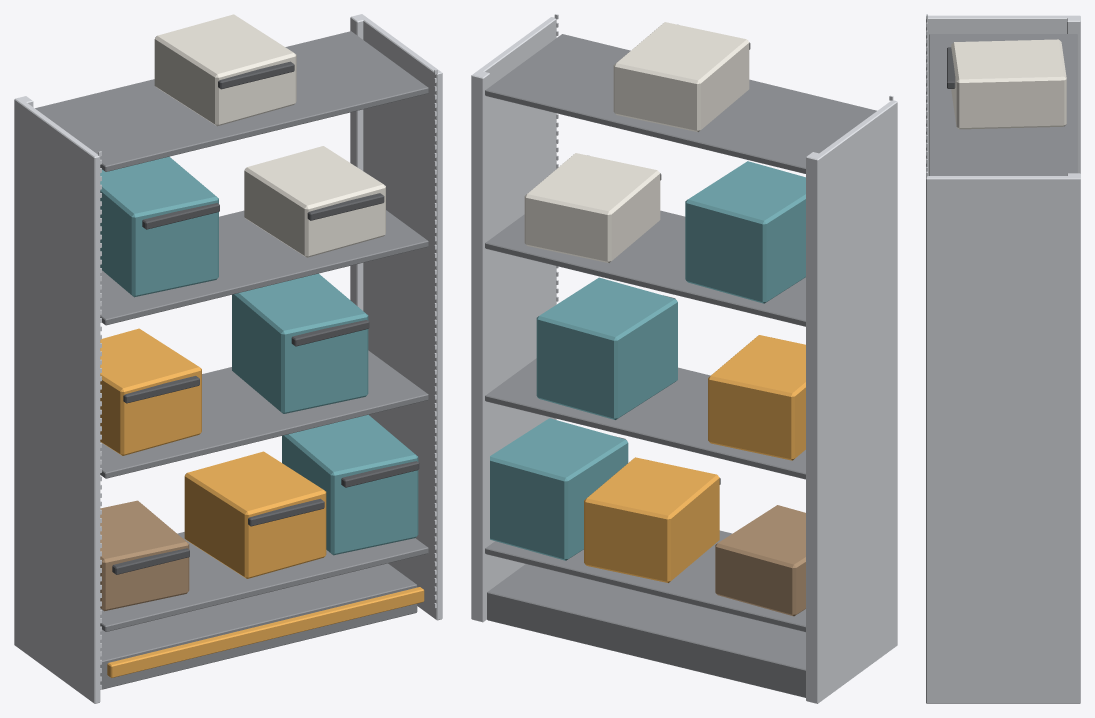
Rendered from 35525_Prop_Store_Shelving_Bay__TV_Studio_and_Broadcast_Gallery_.glb.
3 views of the same model, side by side, from view 1: azimuth 30°, elevation 25°; view 2: azimuth 150°, elevation 25°; view 3: azimuth 270°, elevation 25° (orthographic). The views are drawn at different scales.
Parts seen in each view (by area): view 1: prop-store-shelving; view 2: prop-store-shelving; view 3: prop-store-shelving.
Boxes of the visible parts, x1,y1,x2,y2 form: prop-store-shelving: (14,14,442,703); prop-store-shelving: (471,14,897,703); prop-store-shelving: (926,14,1080,703).
Size of the model in its own units: 1.4 by 2.25 by 0.5601.
